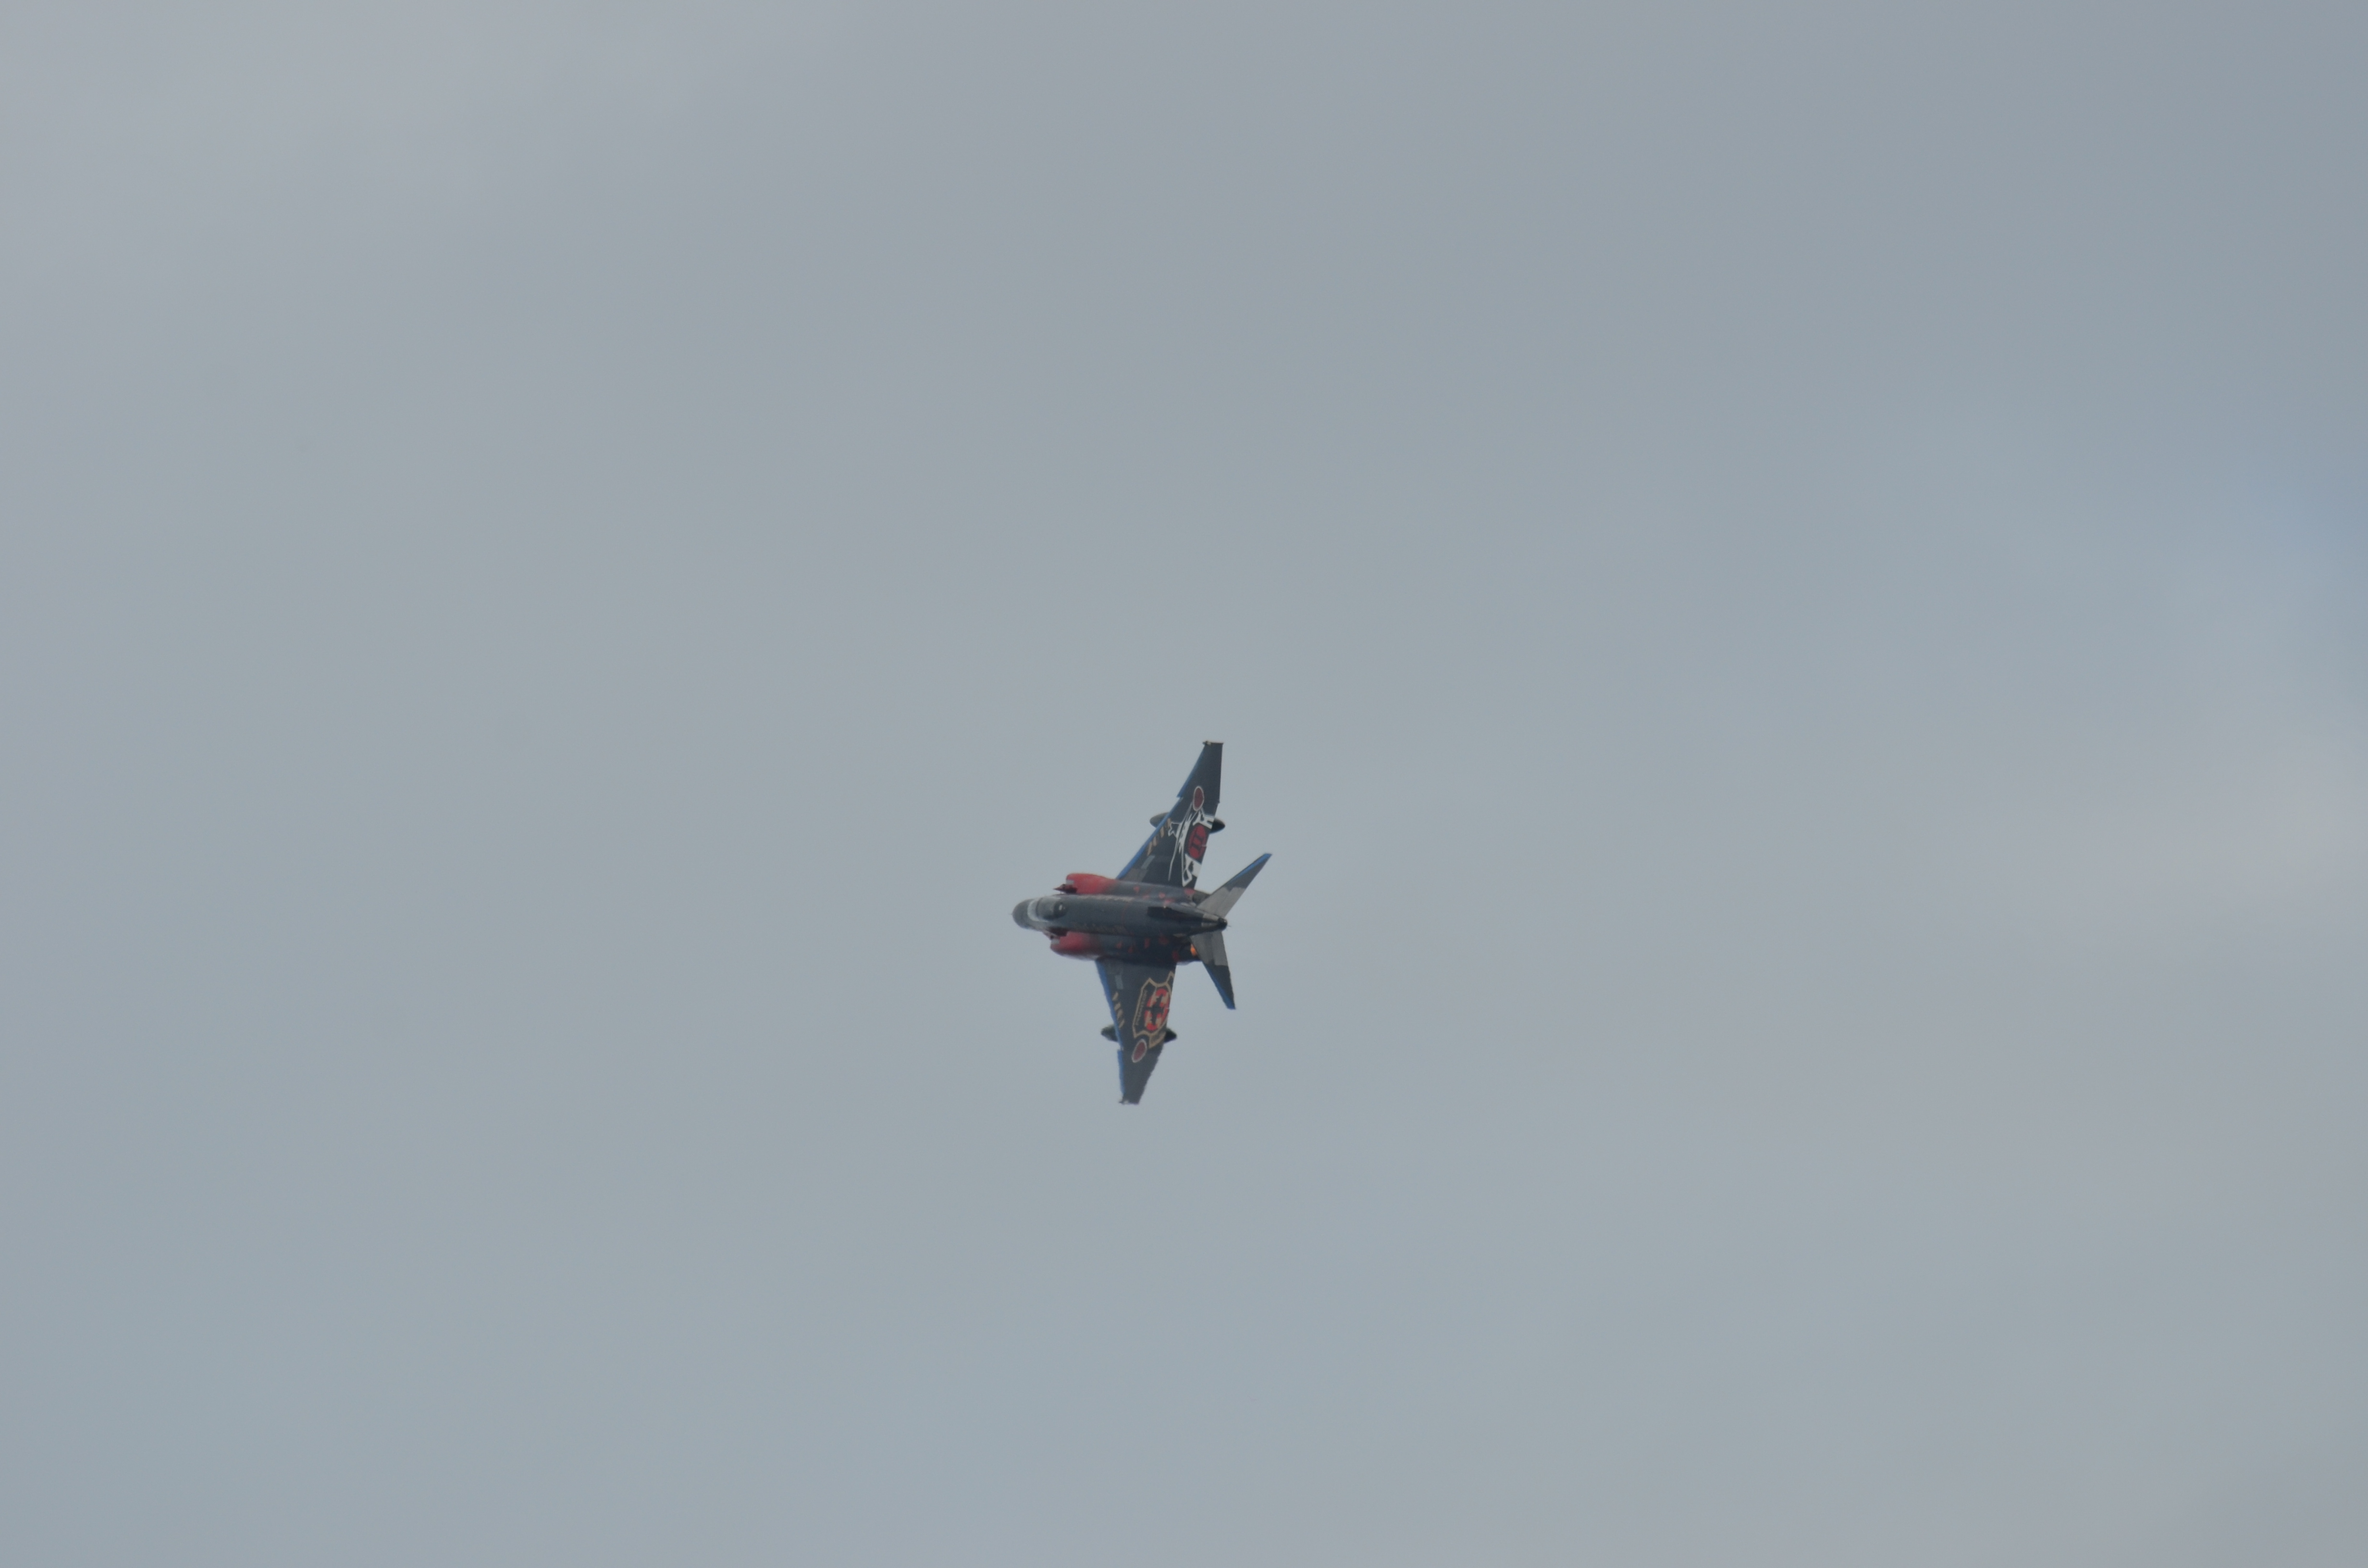F4: (1006, 738, 1272, 1106)
